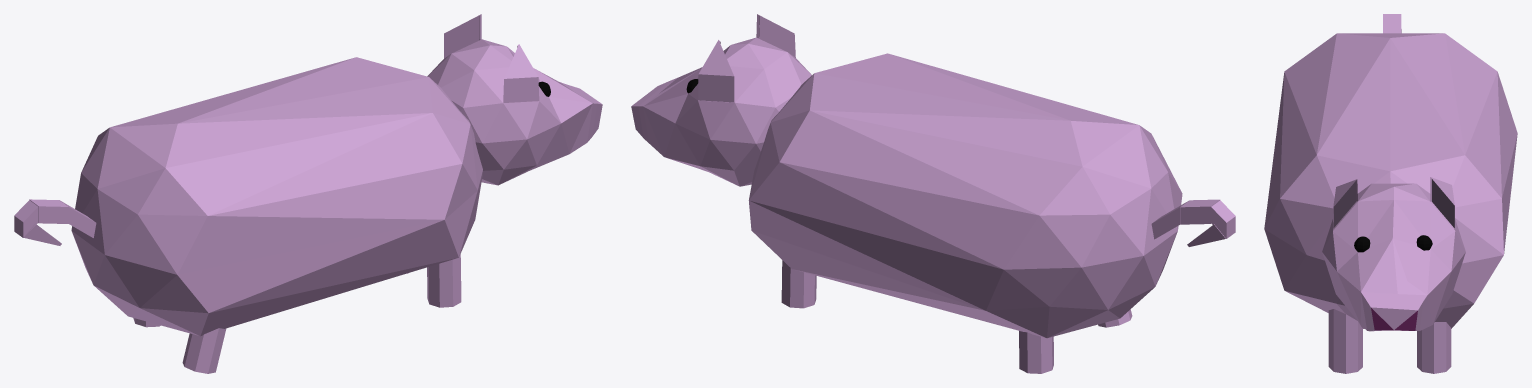
File: pig_anim.fbx
3 views of the same model, side by side, from view 1: azimuth 30°, elevation 25°; view 2: azimuth 150°, elevation 25°; view 3: azimuth 270°, elevation 25° (orthographic). The views are drawn at different scales.
Parts seen in each view (by area): view 1: Body, FRLeg, BRLeg; view 2: Body, BLLeg, FLLeg; view 3: Body, FRLeg, FLLeg.
Part boxes in pixels (box(x1,y1,x2,y2)): Body: box(14, 14, 602, 336); FRLeg: box(427, 254, 461, 307); BRLeg: box(182, 328, 226, 373); Body: box(631, 14, 1235, 338); BLLeg: box(1019, 331, 1053, 373); FLLeg: box(781, 260, 816, 308); Body: box(1264, 14, 1517, 331); FRLeg: box(1328, 309, 1362, 373); FLLeg: box(1417, 322, 1451, 373).
Size of the model in its own units: 614 by 242 by 241.
